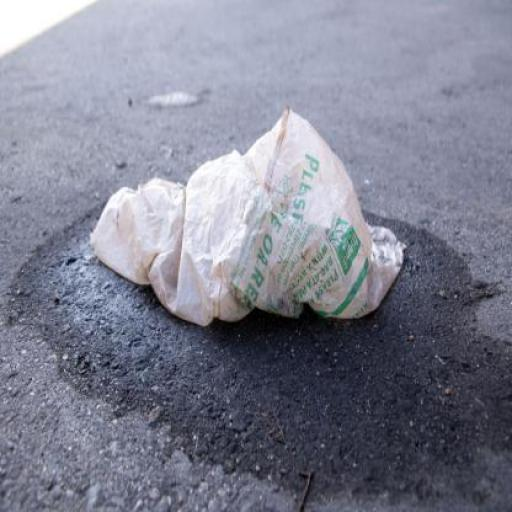plastic bag: (97, 105, 406, 342)
